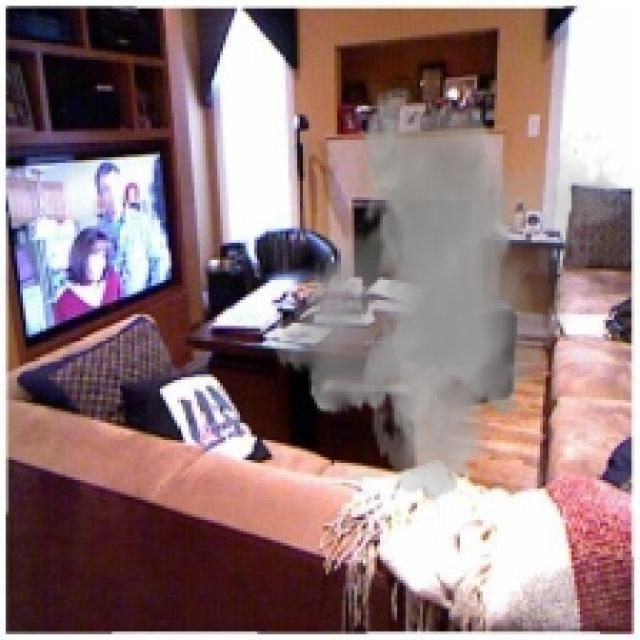Smoke: (263, 86, 632, 500)
